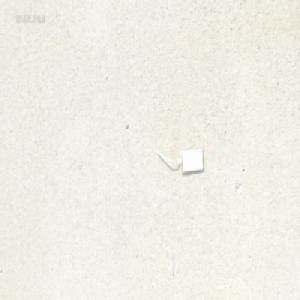LuggageTag: (156, 147, 204, 174)
